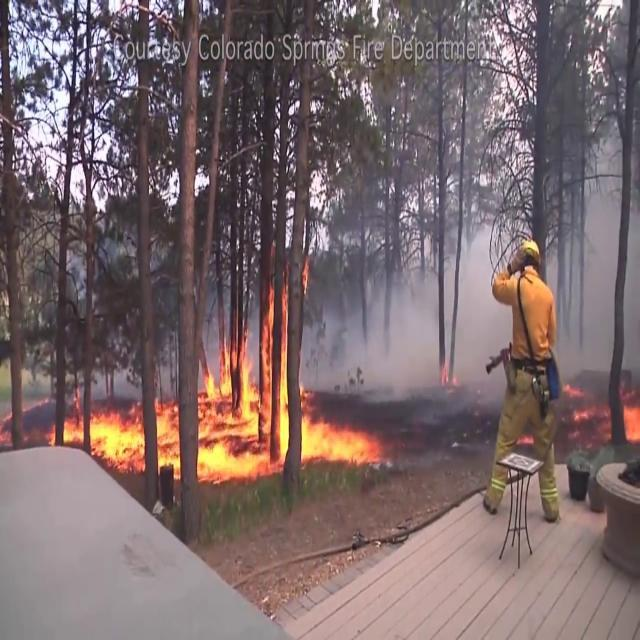Fire: (197, 282, 289, 488), (298, 382, 384, 464), (90, 400, 146, 478), (562, 380, 612, 444), (154, 398, 184, 481), (63, 387, 84, 445), (622, 402, 640, 442), (0, 410, 12, 442), (441, 363, 457, 385), (301, 255, 309, 294), (44, 423, 56, 448)
Smoke: (300, 220, 532, 426), (547, 120, 640, 374), (198, 289, 232, 392), (88, 352, 142, 399), (153, 330, 180, 400), (246, 289, 260, 386)
